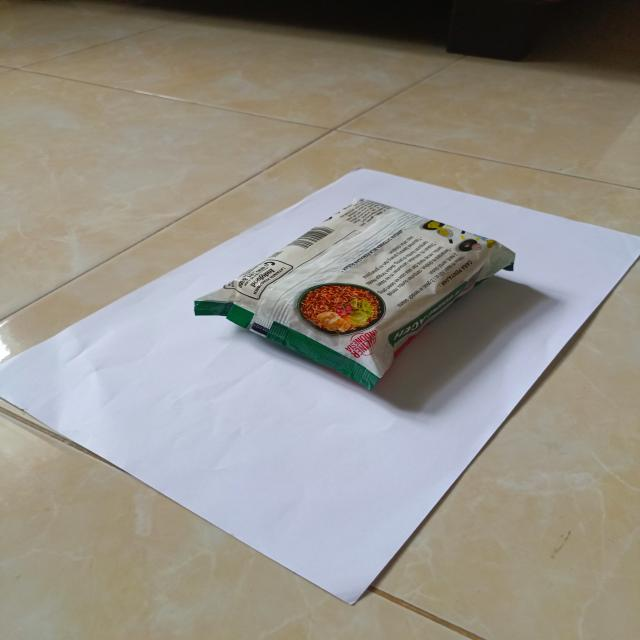gery-salut-coconut: (192, 196, 518, 394)
